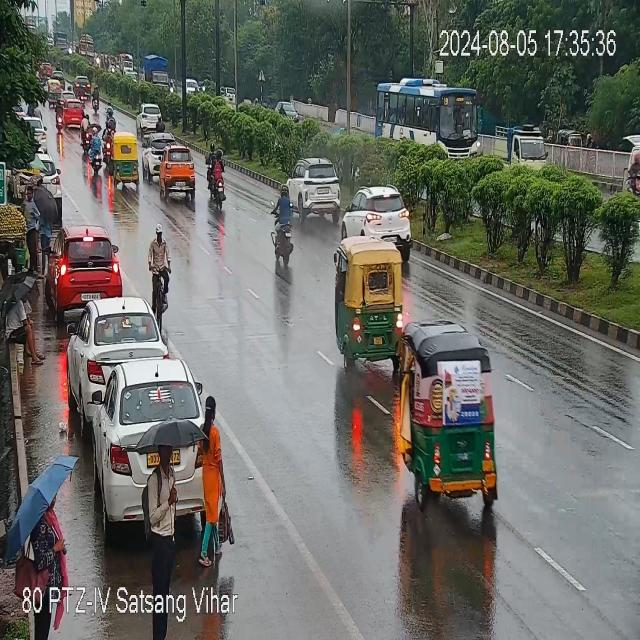2-wheelers: (265, 183, 298, 268), (149, 219, 173, 325), (620, 138, 640, 202), (213, 147, 224, 211), (92, 127, 102, 175), (54, 97, 63, 138), (105, 126, 111, 165), (208, 141, 215, 174), (82, 112, 88, 150), (92, 86, 100, 112), (107, 108, 114, 134), (157, 116, 163, 133)
auto: (393, 322, 502, 509), (334, 232, 413, 379), (112, 134, 144, 194)
bus: (378, 75, 483, 162)
car: (97, 361, 202, 477), (71, 295, 159, 402), (46, 232, 116, 318), (342, 185, 415, 245), (290, 160, 345, 222), (156, 144, 197, 203), (36, 152, 66, 212), (145, 128, 174, 178), (137, 102, 165, 130), (65, 99, 86, 133), (30, 114, 45, 151)
pedestrian: (202, 398, 230, 562), (2, 276, 49, 372), (151, 436, 181, 584), (42, 484, 77, 583), (26, 187, 38, 263), (40, 206, 50, 280)
truck: (494, 119, 550, 166)
